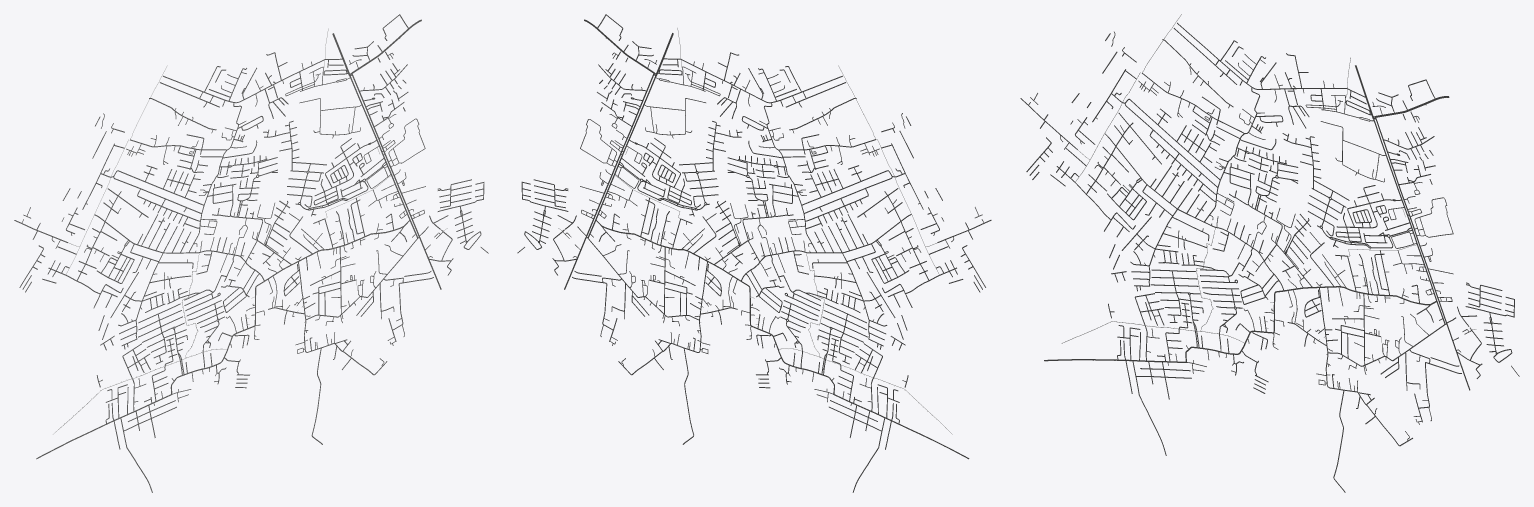
File: roads_3_2.obj
The picture shows the model from 3 angles, left to right: view 1: azimuth 30°, elevation 25°; view 2: azimuth 150°, elevation 25°; view 3: azimuth 330°, elevation 25°; orthographic projection. The views are drawn at different scales.
Size of the model in its own units: 3105 by 2649 by 10.78.
Materials: 5 (5 with a texture image).
